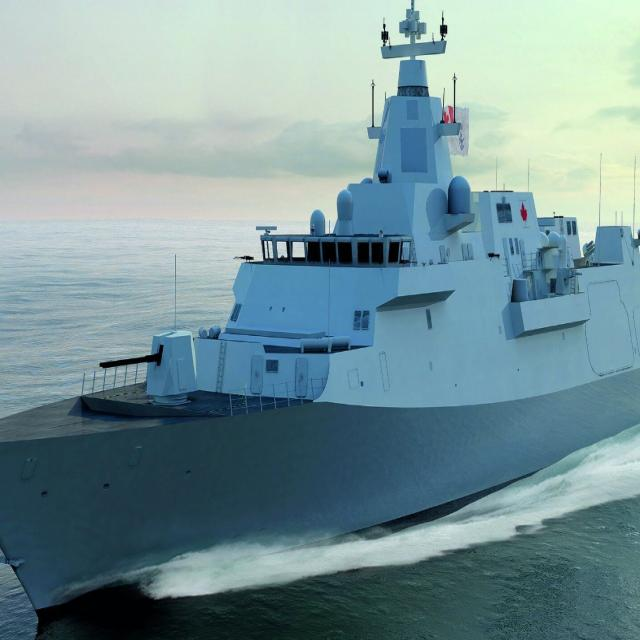Fragata: (1, 1, 506, 635)
